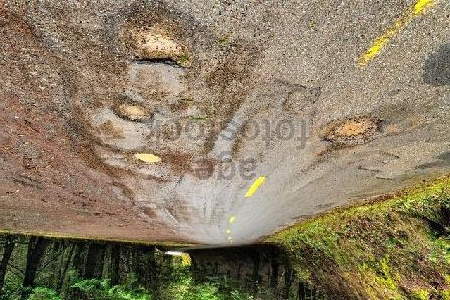pothole: (124, 25, 191, 68), (319, 114, 387, 145), (112, 94, 154, 124), (128, 149, 163, 165)
